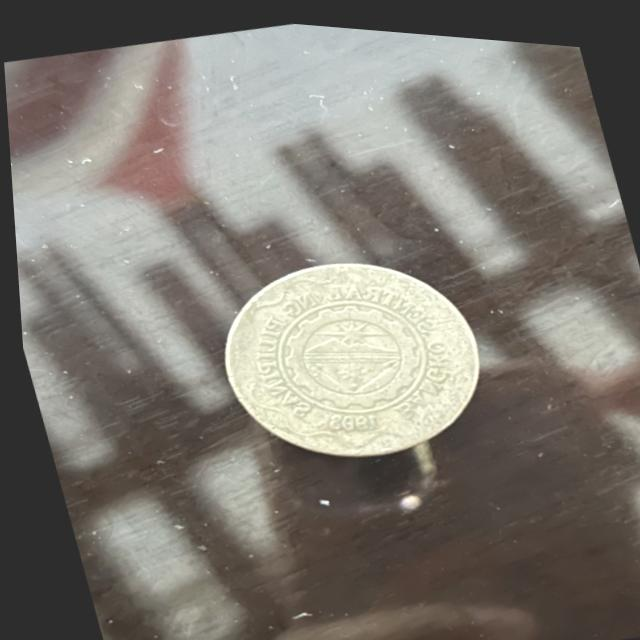5_Old_Back: (197, 223, 492, 482)
